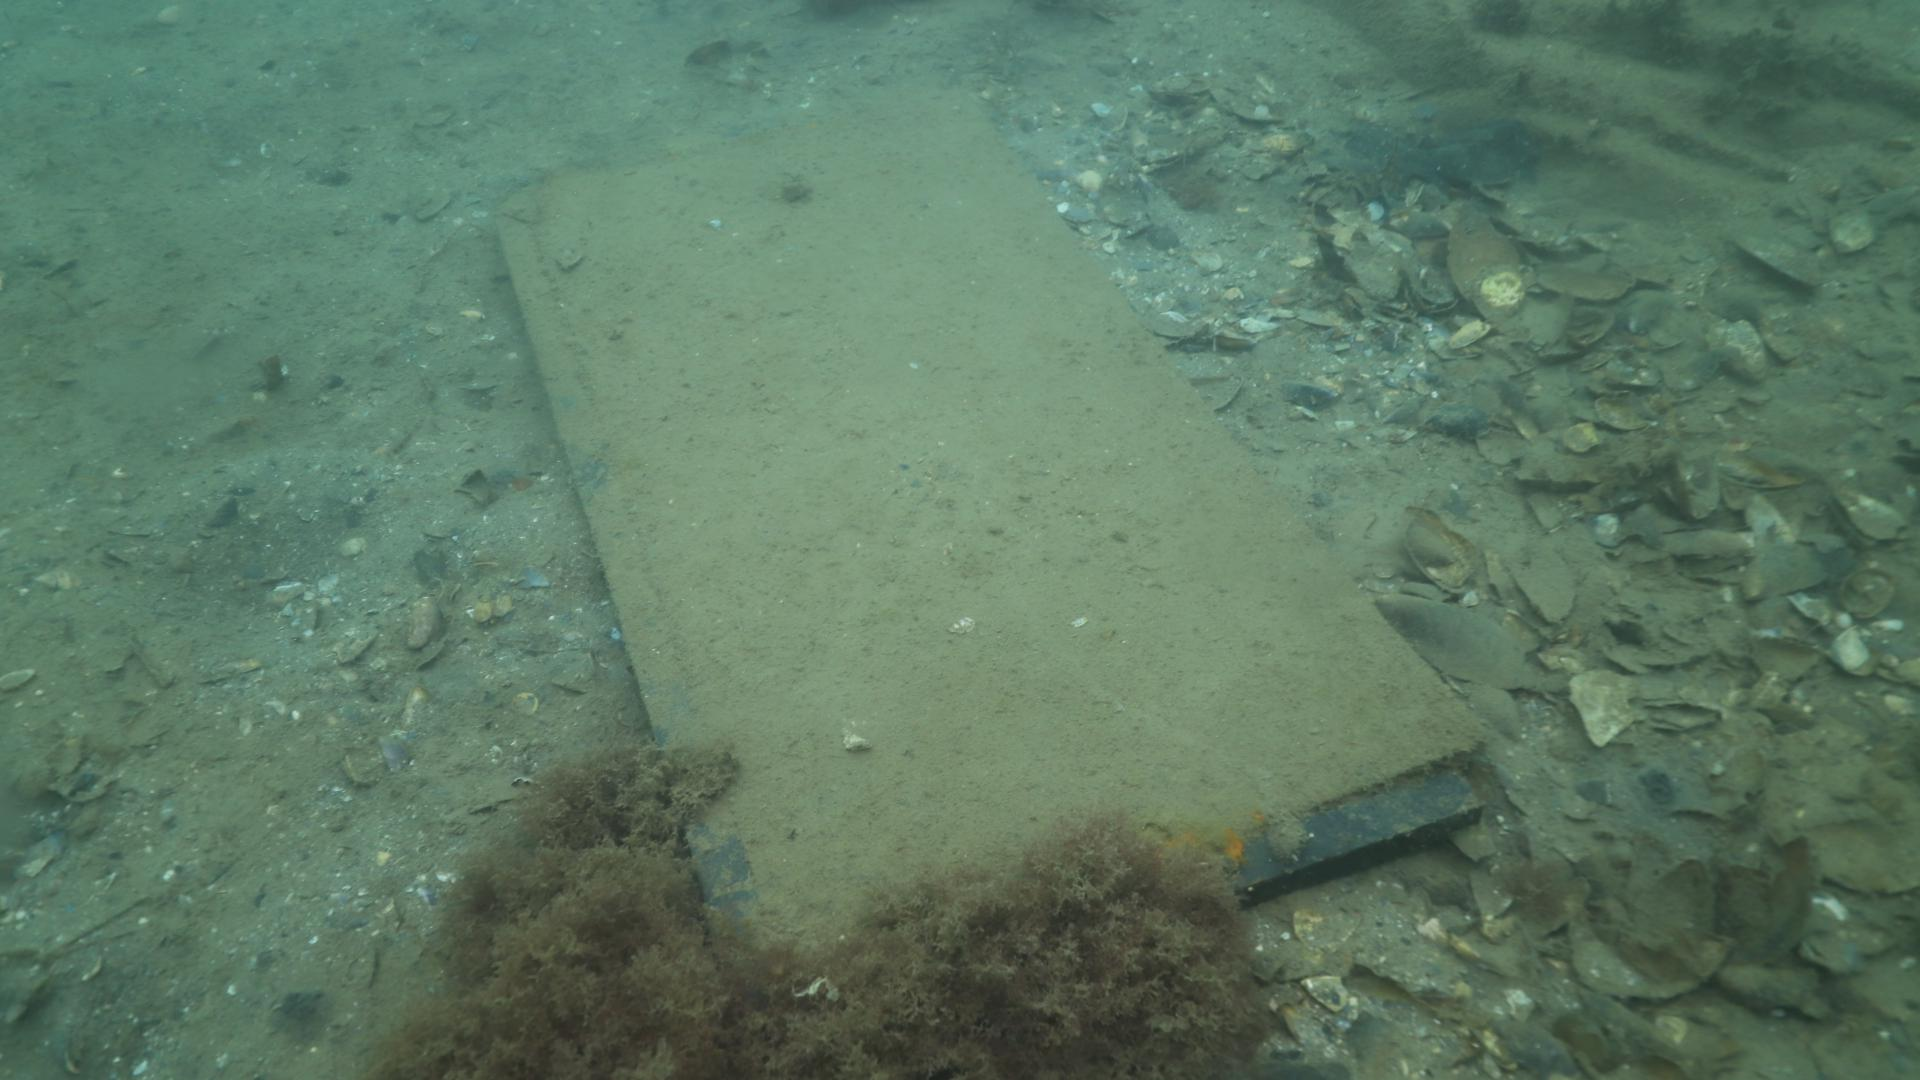wood: (495, 109, 1489, 986)
